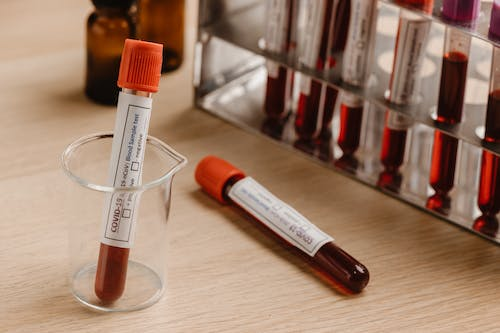blood: (223, 179, 370, 296), (427, 52, 474, 196), (292, 0, 339, 142), (260, 0, 300, 121), (89, 246, 164, 304), (322, 0, 352, 128), (476, 89, 500, 217), (378, 127, 434, 174), (336, 107, 378, 155)
